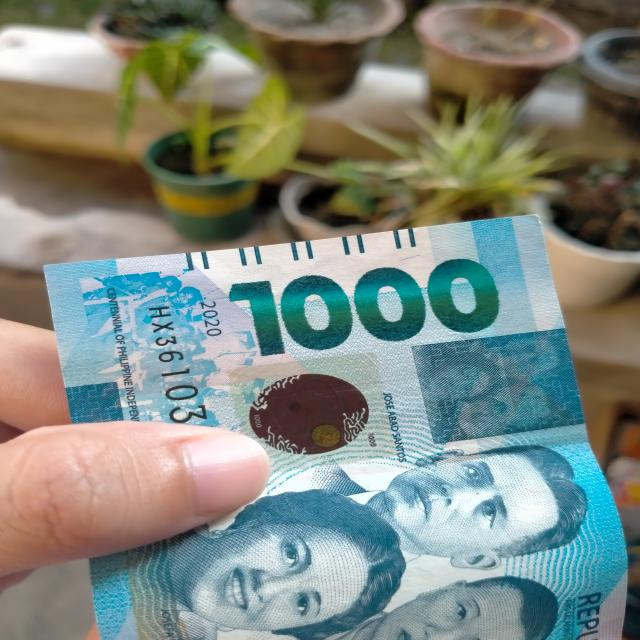concealed_value: (412, 329, 585, 443)
optically_variable_device: (226, 351, 398, 468)
serial_number: (136, 295, 234, 440)
value: (213, 248, 522, 372)
